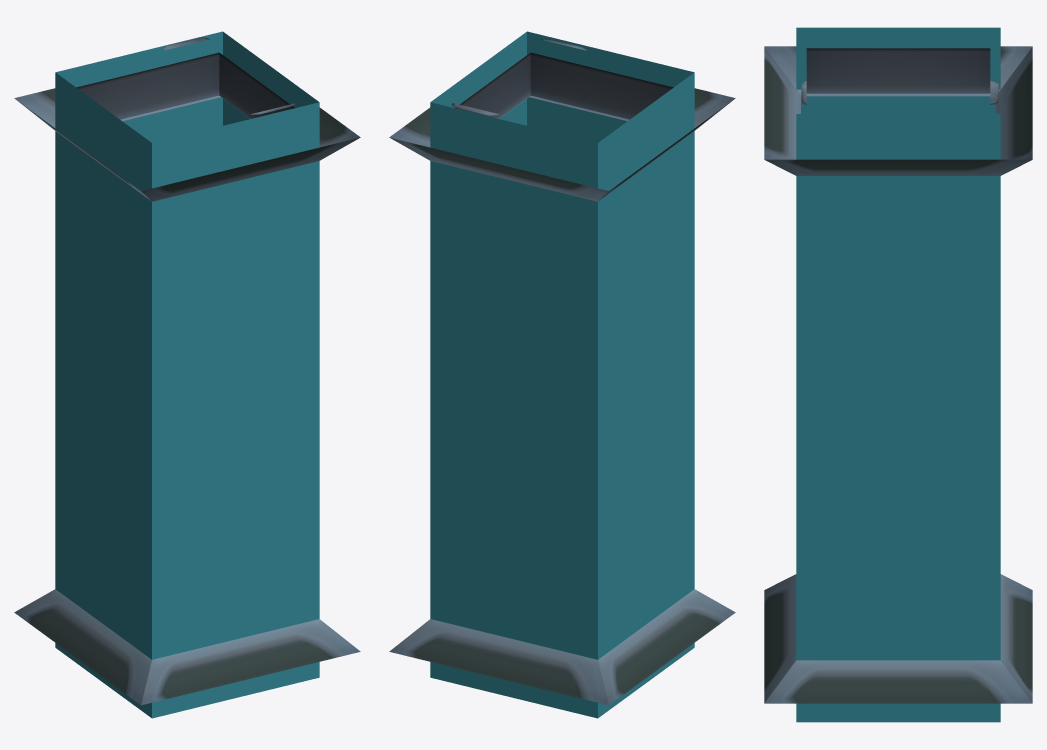
Rendered from obj_interactive_pipe05_lod1.fbx.
The picture shows the model from 3 angles, left to right: view 1: azimuth 30°, elevation 25°; view 2: azimuth 150°, elevation 25°; view 3: azimuth 270°, elevation 25°; orthographic projection. The views are drawn at different scales.
Visible parts, largest first — view 1: obj_interactive_pipe05_lod1; view 2: obj_interactive_pipe05_lod1; view 3: obj_interactive_pipe05_lod1.
Part boxes in pixels (<box>): obj_interactive_pipe05_lod1: <box>14,31,360,718</box>; obj_interactive_pipe05_lod1: <box>389,31,735,718</box>; obj_interactive_pipe05_lod1: <box>764,27,1032,722</box>.
Bounding box in the file's own units: 2 × 5 × 2.
